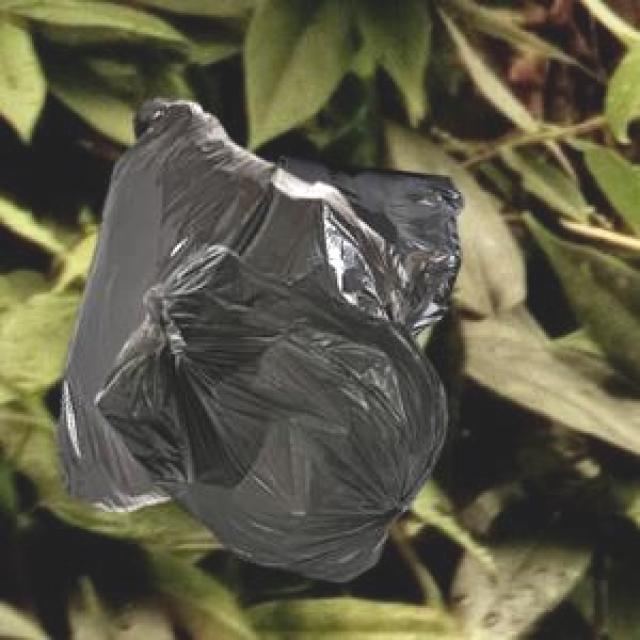Trashbag: (96, 238, 455, 587)
